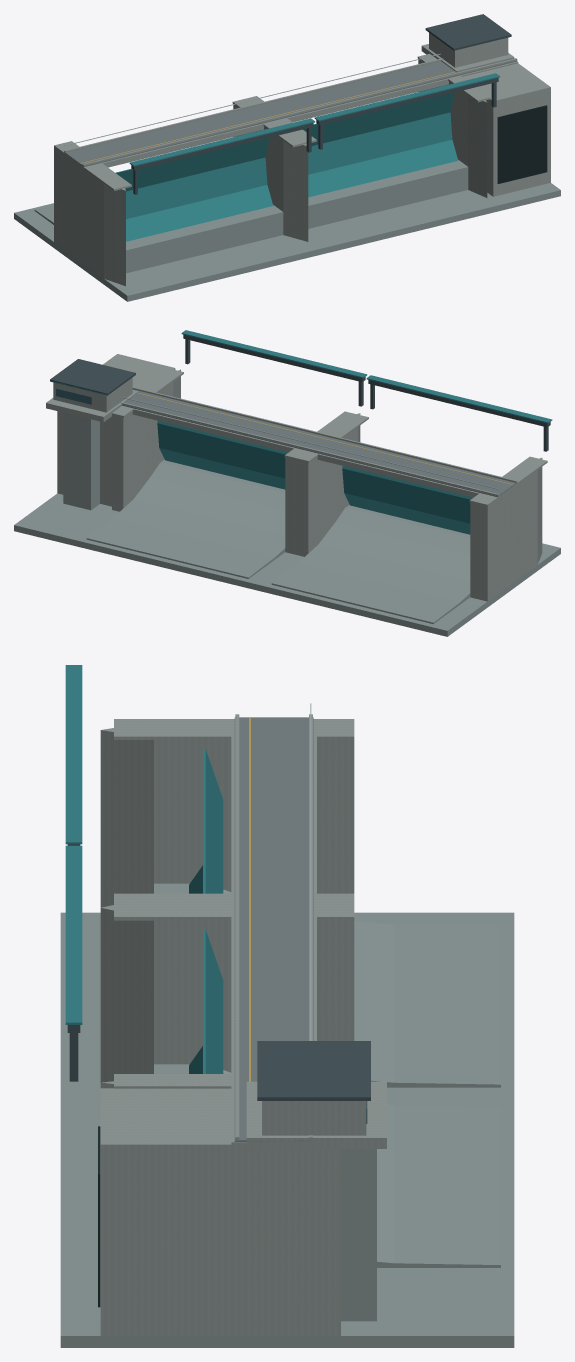
File: Dam_Module75_LOD2.glb
3 views of the same model, one above another, from view 1: azimuth 30°, elevation 25°; view 2: azimuth 150°, elevation 25°; view 3: azimuth 270°, elevation 25° (orthographic). The views are drawn at different scales.
Visible parts, largest first — view 1: Dam_Module75_LOD2; view 2: Dam_Module75_LOD2; view 3: Dam_Module75_LOD2.
Boxes of the visible parts, bbox=[...] form: Dam_Module75_LOD2: bbox=[14, 14, 560, 301]; Dam_Module75_LOD2: bbox=[14, 330, 560, 636]; Dam_Module75_LOD2: bbox=[60, 665, 514, 1347].
Bounding box in the file's own units: 75 × 22.08 × 34.
Materials: 9 (1 with a texture image).
